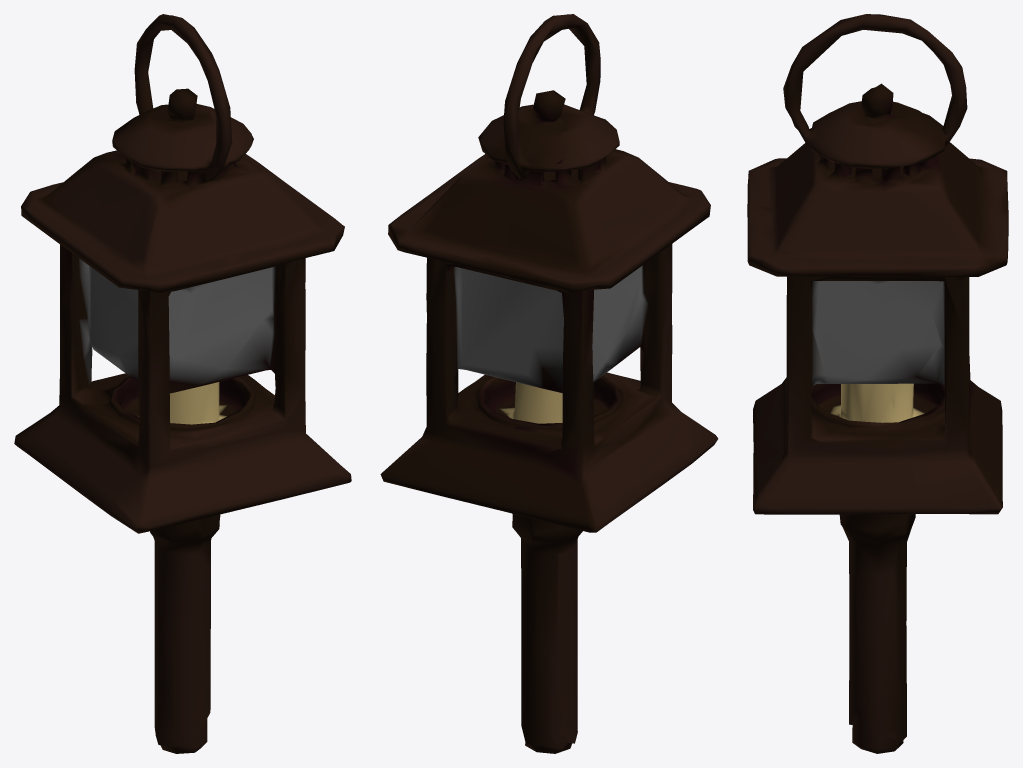
Rendered from gen3d-grave-lantern-lod0.glb.
3 views of the same model, side by side, from view 1: azimuth 30°, elevation 25°; view 2: azimuth 150°, elevation 25°; view 3: azimuth 270°, elevation 25° (orthographic).
Visible parts, largest first — view 1: part_0; view 2: part_0; view 3: part_0.
Boxes of the visible parts, box(x1,y1,x2,y2) form: part_0: box(14, 14, 351, 753); part_0: box(380, 14, 718, 753); part_0: box(747, 14, 1008, 753).
Size of the model in its own units: 0.3246 by 0.9994 by 0.3245.
